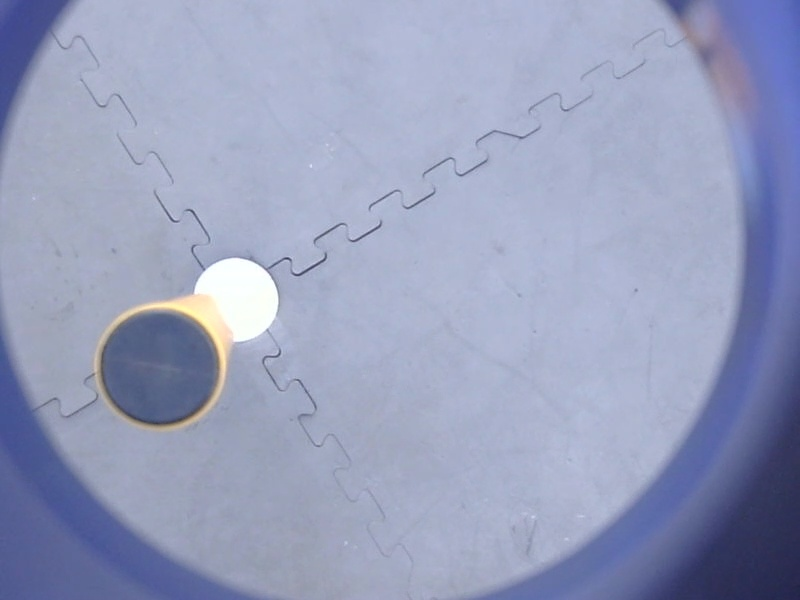tip: (87, 293, 234, 441)
